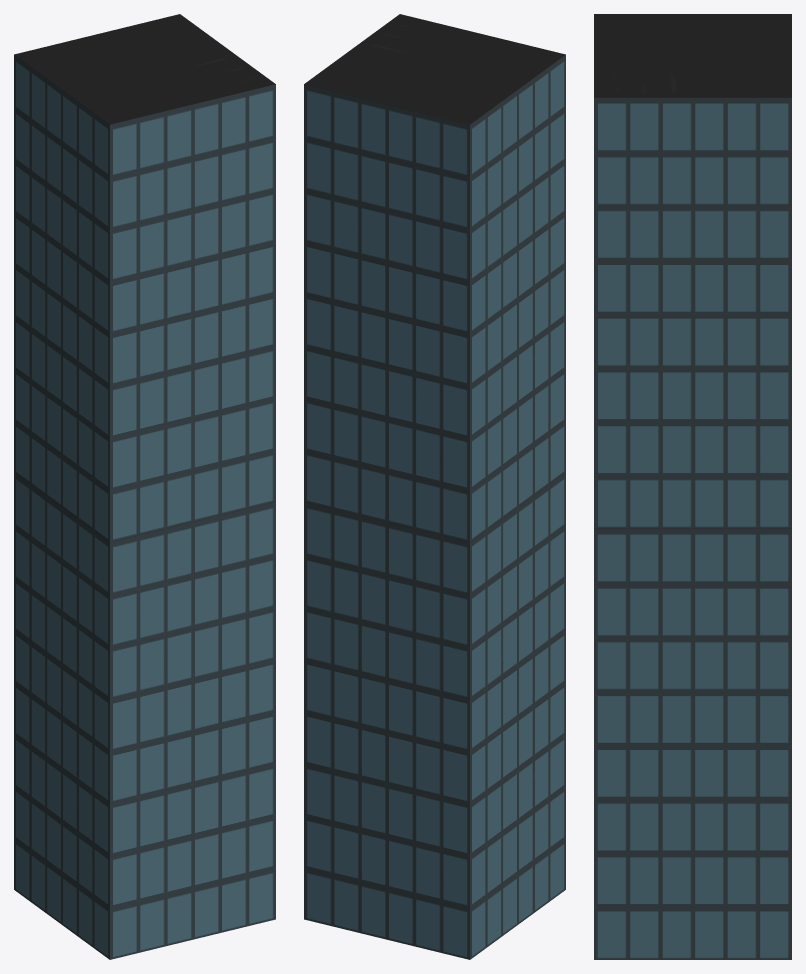
File: Skycraber.fbx
3 renders of one model, left to right at view 1: azimuth 30°, elevation 25°; view 2: azimuth 150°, elevation 25°; view 3: azimuth 270°, elevation 25°, orthographic. The views are drawn at different scales.
Visible parts, largest first — view 1: Skycraber; view 2: Skycraber; view 3: Skycraber.
Part boxes in pixels (<box>): Skycraber: <box>14,14,275,959</box>; Skycraber: <box>304,14,565,959</box>; Skycraber: <box>594,14,791,959</box>.
Size of the model in its own units: 200 by 962 by 200.
